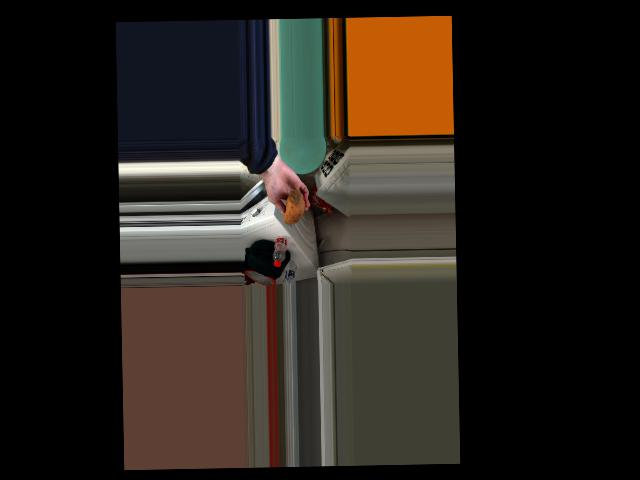sweet_potato: (285, 185, 303, 225)
